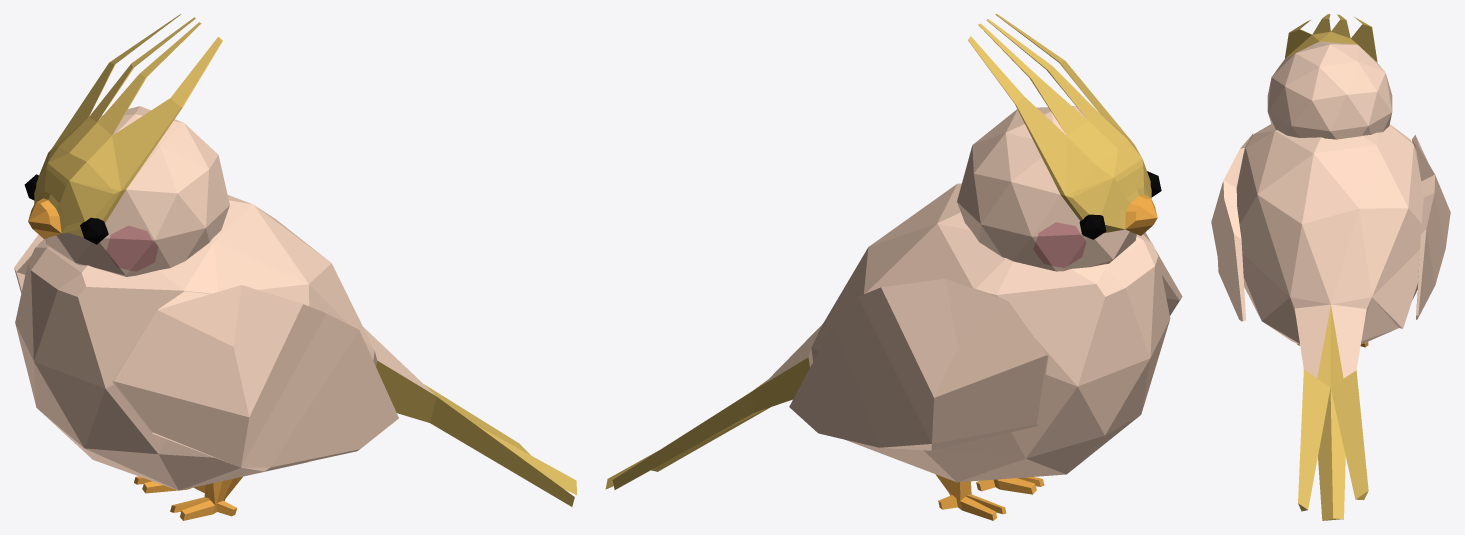
File: Cockatiel.fbx
3 views of the same model, side by side, from view 1: azimuth 30°, elevation 25°; view 2: azimuth 150°, elevation 25°; view 3: azimuth 270°, elevation 25° (orthographic). The views are drawn at different scales.
Visible parts, largest first — view 1: Body, Wing.L; view 2: Body, Wing.R; view 3: Body, Wing.L, Wing.R.
Boxes of the visible parts, x1,y1,x2,y2 form: Body: (15, 14, 576, 520); Wing.L: (112, 285, 398, 471); Body: (605, 14, 1170, 520); Wing.R: (789, 278, 1048, 450); Body: (1237, 14, 1423, 520); Wing.L: (1211, 133, 1253, 321); Wing.R: (1412, 134, 1450, 319).
Size of the model in its own units: 125 by 122 by 69.
